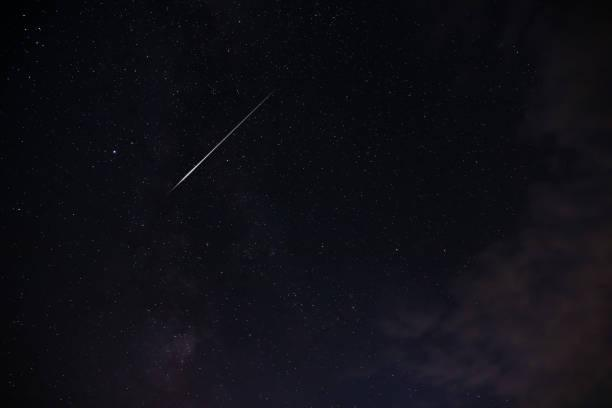meteor: (168, 181, 183, 197)
